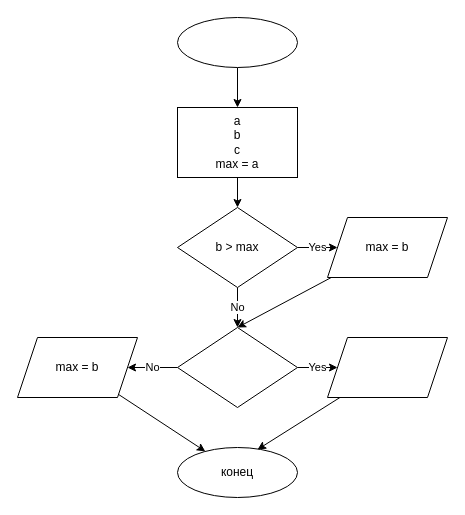
Some shapes in this 465 by 515 pixel diagram are drawn without their labels. The centre of each missing label's shape, as x and y in pixels:
max = c: pixel 387 367
начало: pixel 237 42
с > max: pixel 237 367
